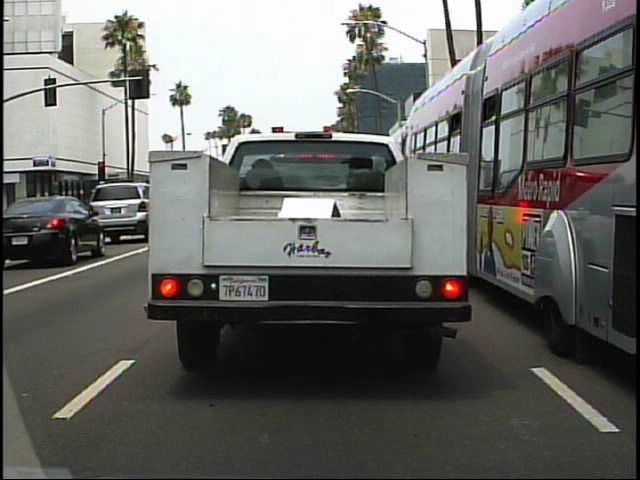person: (19, 200, 39, 235)
